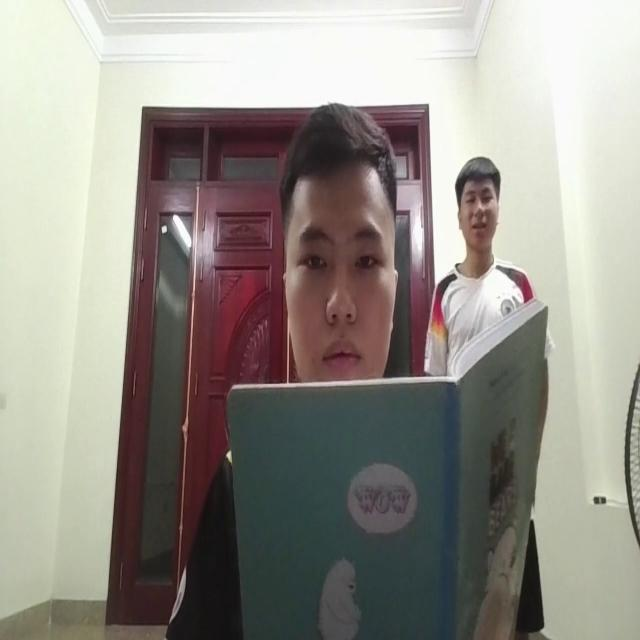book: (224, 329, 546, 636)
extra_person: (445, 156, 520, 335)
student: (278, 90, 399, 377)
